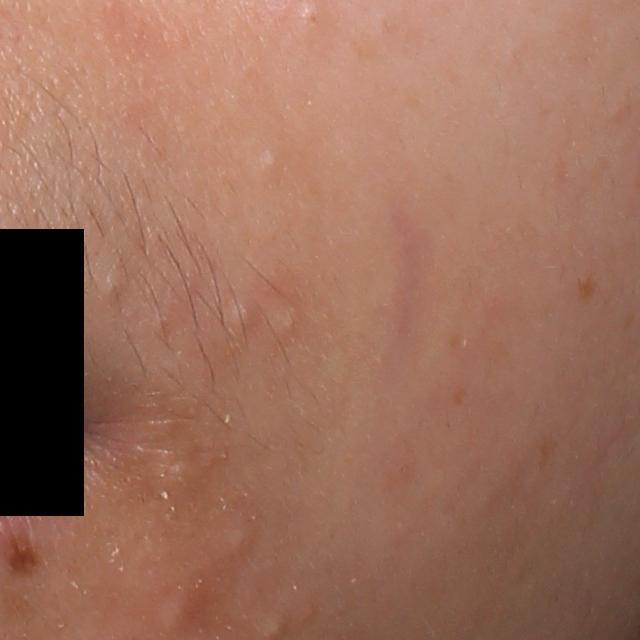comedo: (227, 295, 257, 338), (294, 0, 328, 34), (96, 268, 133, 299), (273, 304, 304, 336), (226, 525, 254, 558), (259, 150, 286, 175)
nevus: (3, 526, 44, 580)
